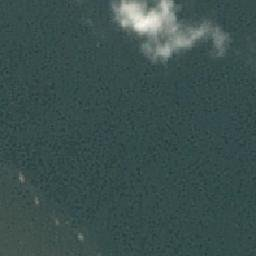cloud: (112, 1, 174, 27), (131, 27, 173, 47), (210, 25, 233, 57), (175, 20, 212, 37), (141, 46, 175, 62), (166, 37, 197, 50)
debris: (18, 170, 24, 185), (53, 219, 61, 226), (33, 194, 39, 203), (77, 234, 84, 241)
